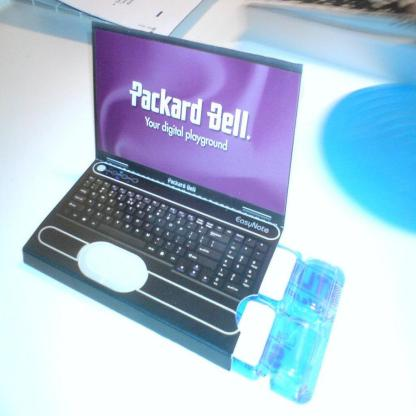board: (21, 18, 304, 371)
